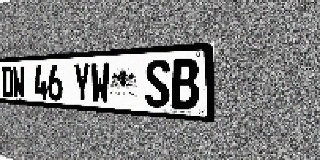4: (34, 65, 48, 100)
6: (47, 64, 63, 101)
B: (171, 58, 199, 110)
D: (2, 66, 13, 98)
S: (145, 59, 170, 108)
W: (91, 62, 110, 104), (13, 66, 25, 99)
Y: (73, 63, 91, 103)
